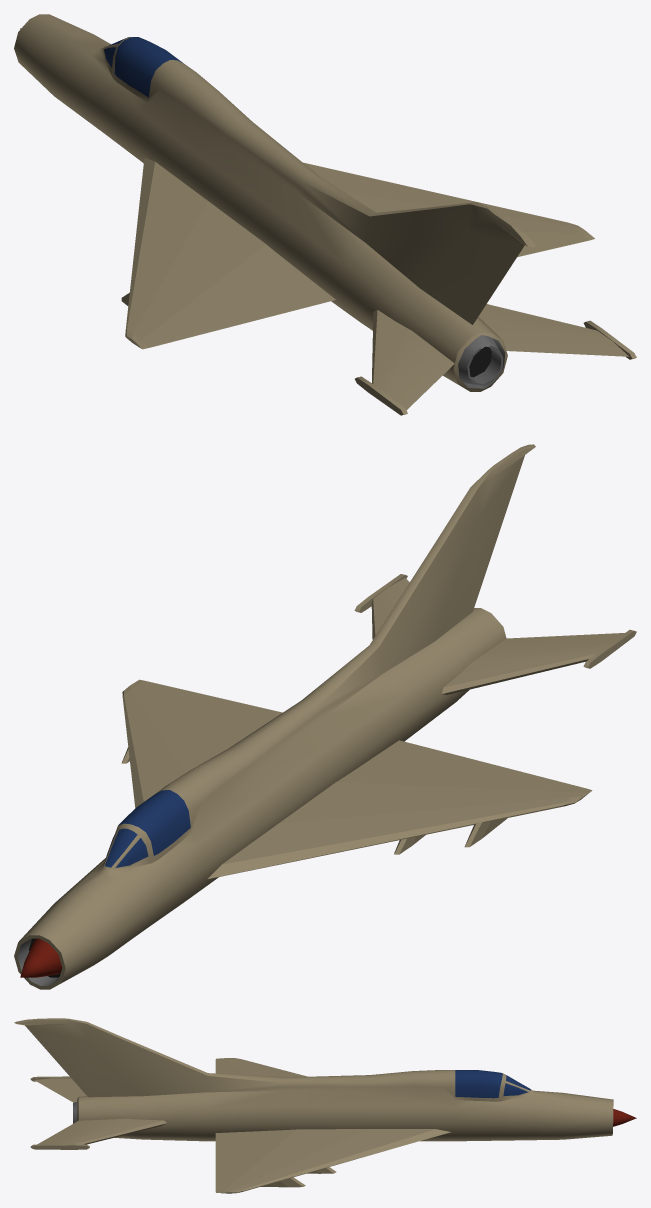
The model's file is MIG21.glb.
3 views of the same model, one above another, from view 1: azimuth 30°, elevation 25°; view 2: azimuth 150°, elevation 25°; view 3: azimuth 270°, elevation 25° (orthographic). The views are drawn at different scales.
Parts seen in each view (by area): view 1: mig21; view 2: mig21; view 3: mig21.
Boxes of the visible parts, bbox=[...] form: mig21: bbox=[14, 14, 636, 415]; mig21: bbox=[14, 444, 636, 989]; mig21: bbox=[14, 1018, 636, 1193].
Size of the model in its own units: 7.59 by 3.18 by 14.9.
